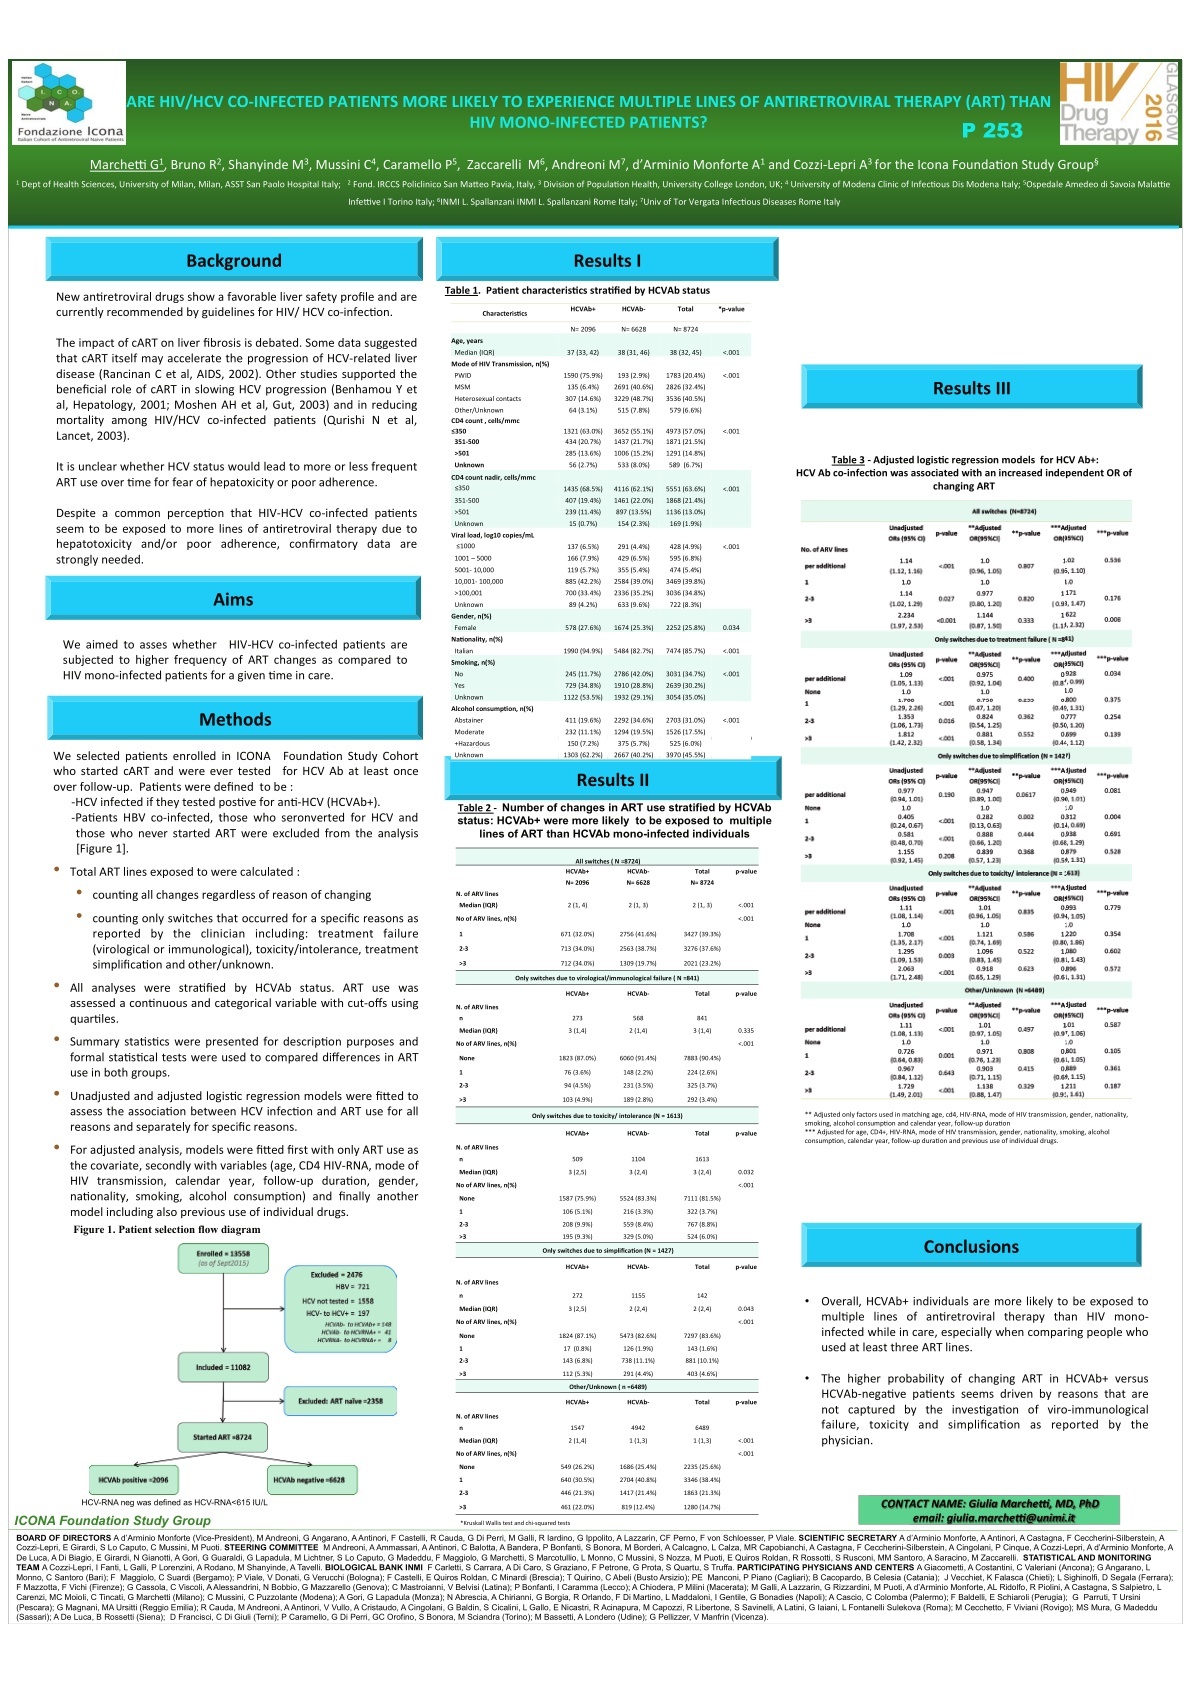partial_lined: (451, 301, 751, 758)
partial_lined_merged_cells: (454, 847, 760, 1528), (800, 499, 1130, 1103)
